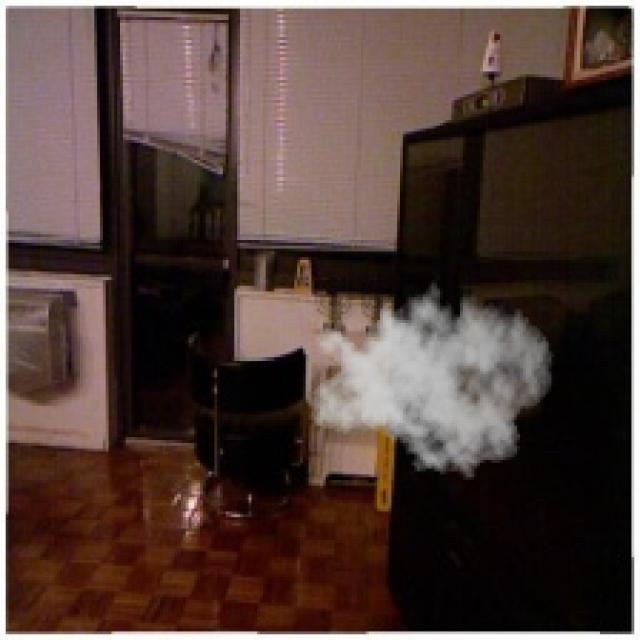Smoke: (306, 271, 554, 486)
